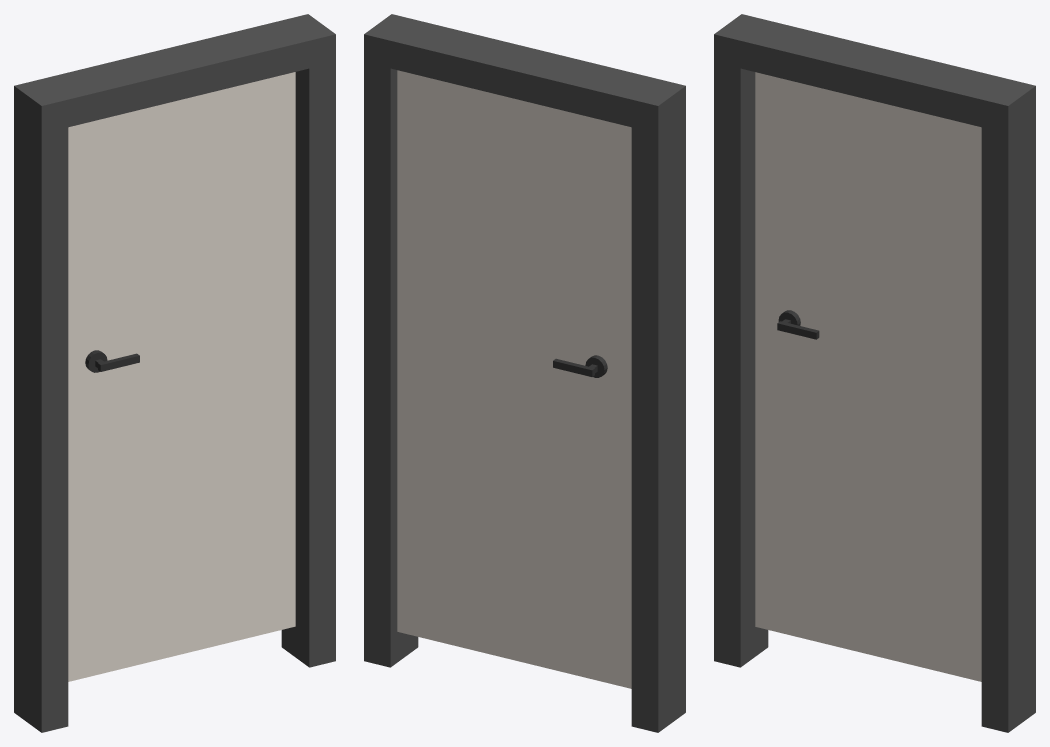
File: Door.fbx
3 views of the same model, side by side, from view 1: azimuth 30°, elevation 25°; view 2: azimuth 150°, elevation 25°; view 3: azimuth 330°, elevation 25° (orthographic).
Visible parts, largest first — view 1: Door1_C1, DoorFrame_01, DoorHandle1_C1; view 2: Door1_C1, DoorFrame_01, DoorHandle1_C1; view 3: Door1_C1, DoorFrame_01, DoorHandle1_C1.
Boxes of the visible parts, x1=… form: Door1_C1: x1=68, y1=72, x2=295, y2=681; DoorFrame_01: x1=14, y1=14, x2=335, y2=732; DoorHandle1_C1: x1=85, y1=350, x2=139, y2=372; Door1_C1: x1=397, y1=70, x2=631, y2=688; DoorFrame_01: x1=364, y1=14, x2=685, y2=732; DoorHandle1_C1: x1=553, y1=355, x2=607, y2=377; Door1_C1: x1=755, y1=72, x2=981, y2=681; DoorFrame_01: x1=714, y1=14, x2=1035, y2=732; DoorHandle1_C1: x1=777, y1=310, x2=819, y2=339.
Bounding box in the file's own units: 111 × 226 × 21.31.
